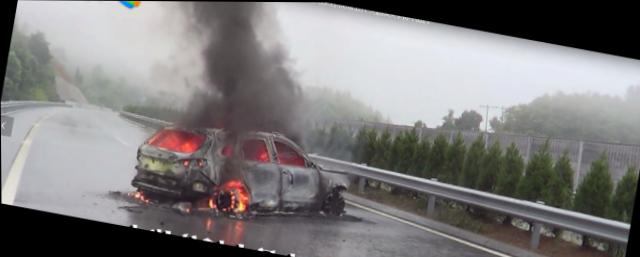fire: (158, 127, 201, 154), (237, 188, 249, 211), (227, 178, 242, 188)
